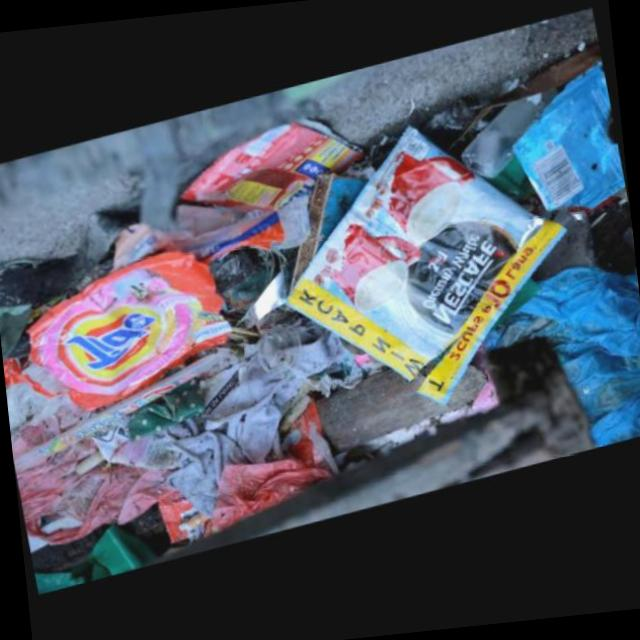goi_nhua_nho: (288, 130, 566, 409), (2, 253, 232, 413), (176, 122, 364, 216), (511, 67, 626, 219)
